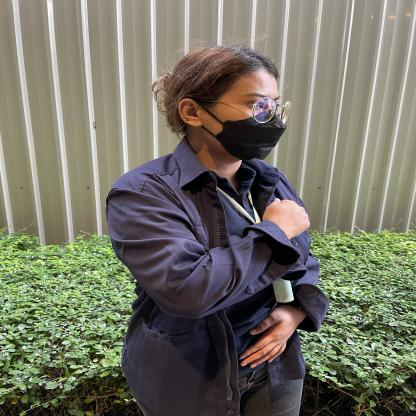Sadness: (162, 176, 334, 277)
